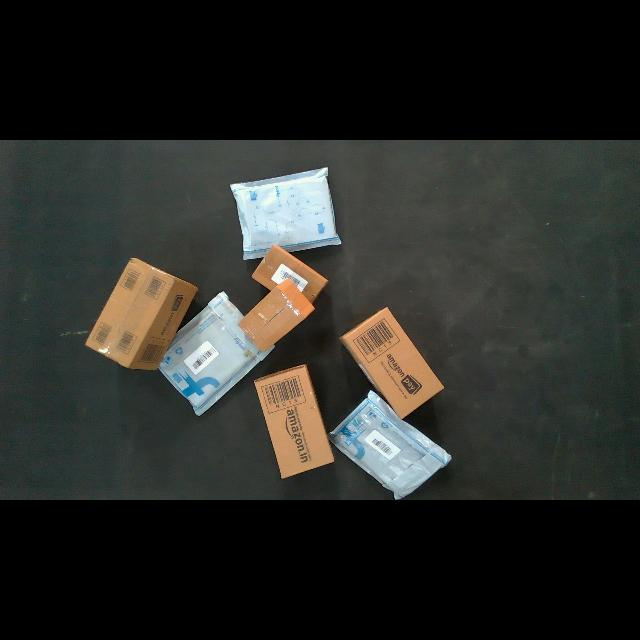box: (86, 258, 197, 369), (341, 307, 444, 418), (254, 365, 334, 479), (238, 279, 314, 351), (252, 245, 328, 303)
mailer: (159, 292, 274, 415), (328, 391, 451, 499), (230, 168, 341, 259)
